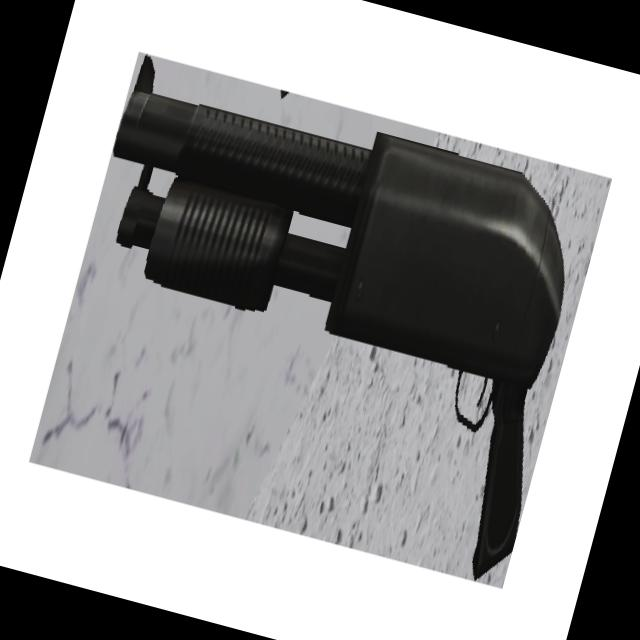Weapon: (20, 32, 619, 622)
